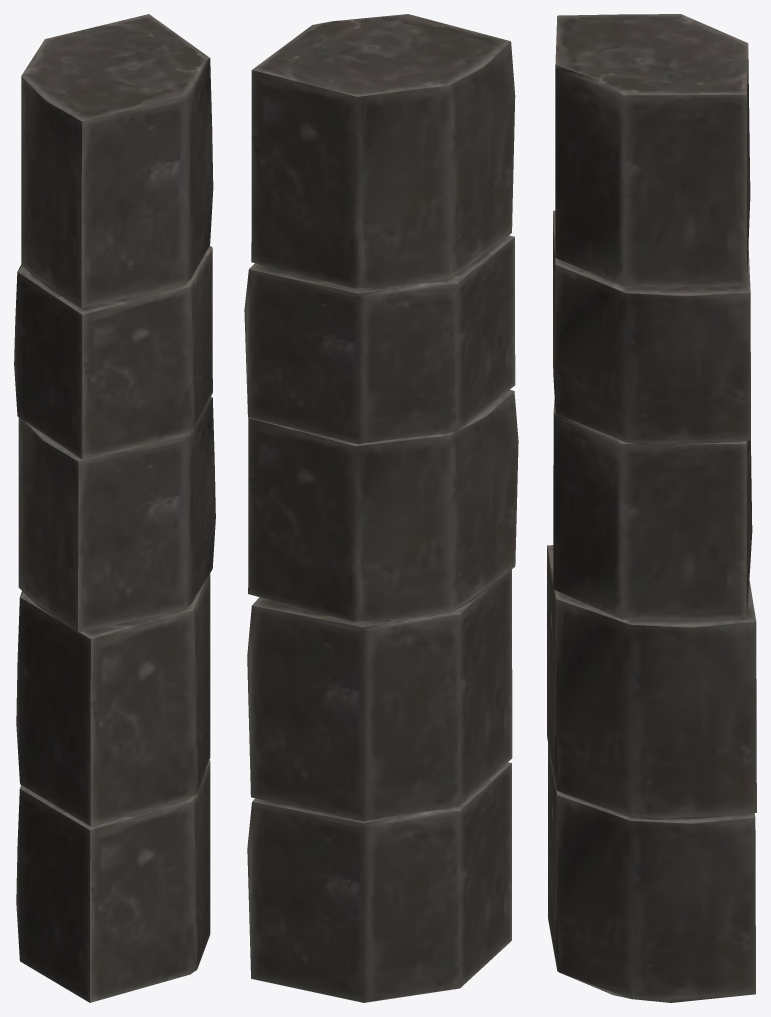
3 views of the same model, side by side, from view 1: azimuth 30°, elevation 25°; view 2: azimuth 150°, elevation 25°; view 3: azimuth 270°, elevation 25° (orthographic). The views are drawn at different scales.
Parts seen in each view (by area): view 1: SM_Greathall_WallCap_10m_02_LOD0; view 2: SM_Greathall_WallCap_10m_02_LOD0; view 3: SM_Greathall_WallCap_10m_02_LOD0.
Part boxes in pixels (x1,y1,x2,y2): SM_Greathall_WallCap_10m_02_LOD0: (14,14,215,1002); SM_Greathall_WallCap_10m_02_LOD0: (244,14,518,1002); SM_Greathall_WallCap_10m_02_LOD0: (547,14,756,1002).
Size of the model in its own units: 2.08 by 10.05 by 2.1.
Materials: 1 (1 with a texture image).
